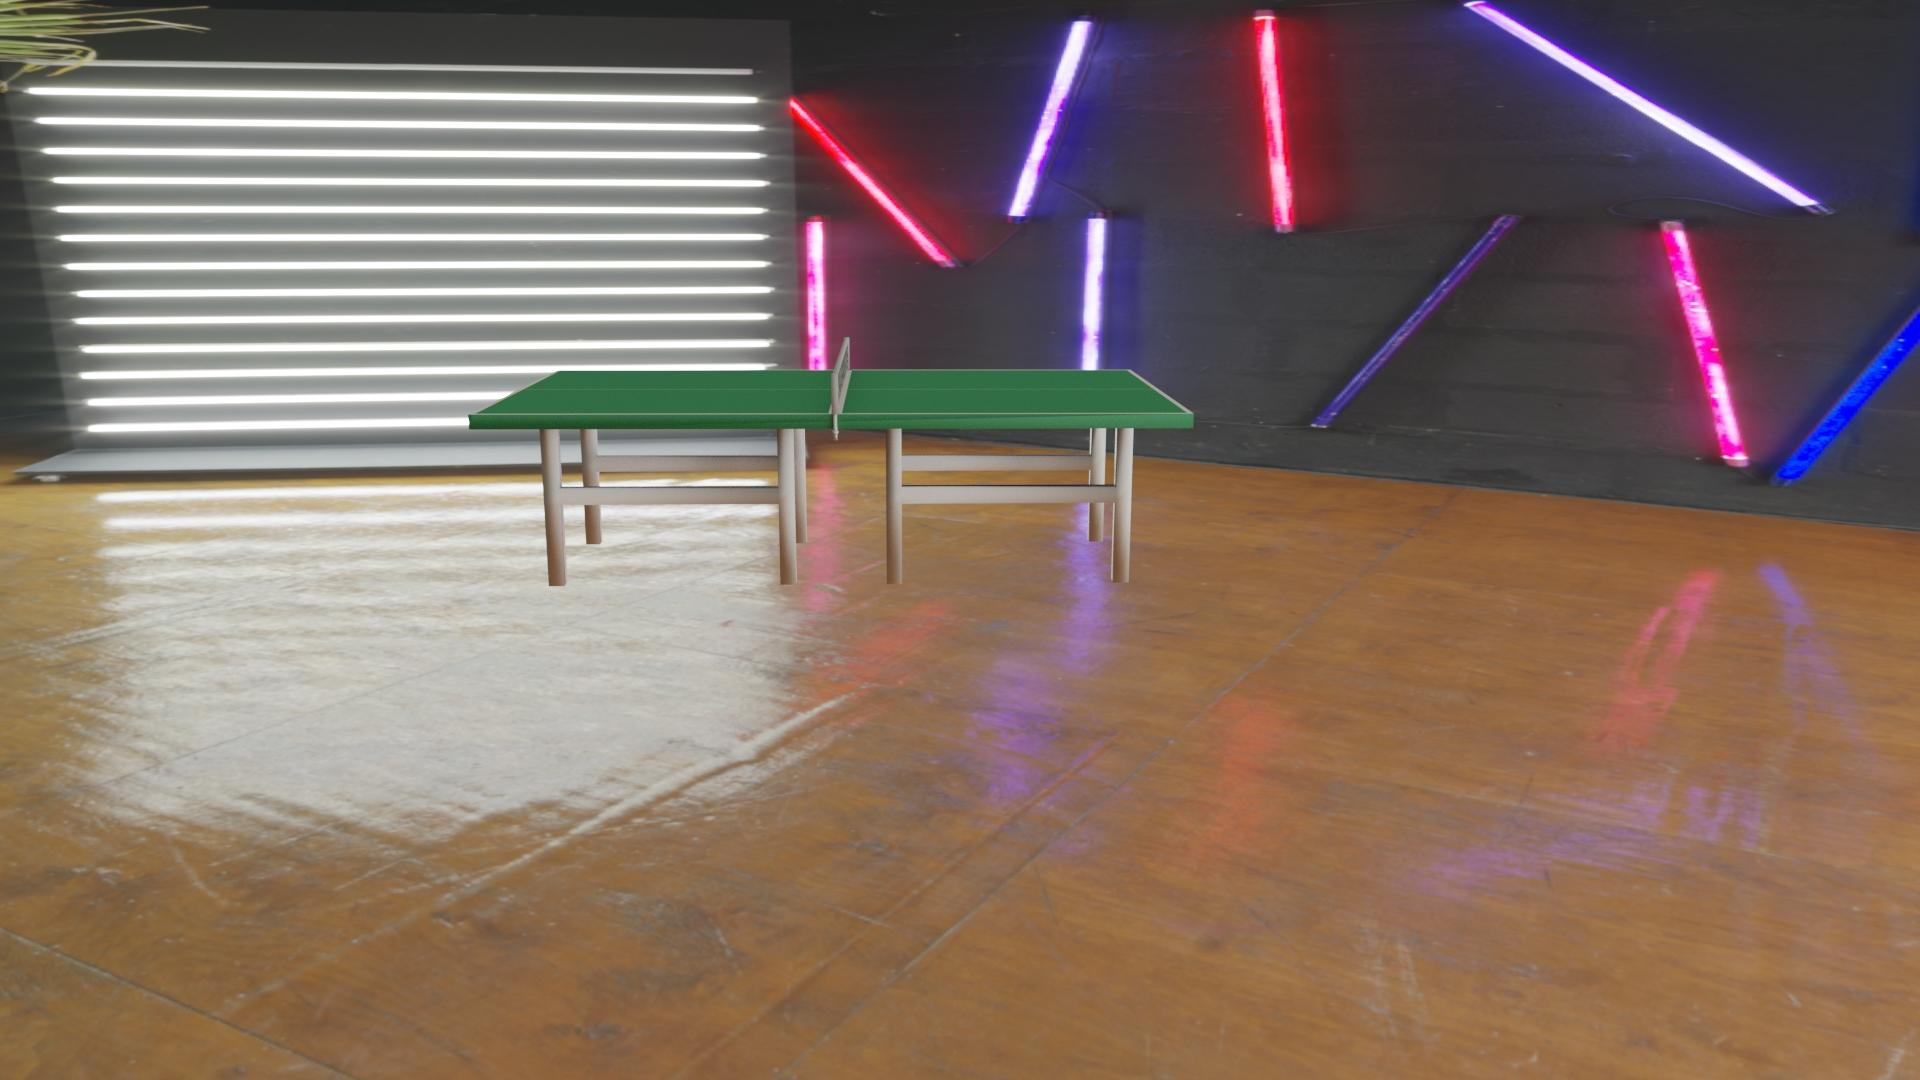table: (475, 371, 1188, 414)
